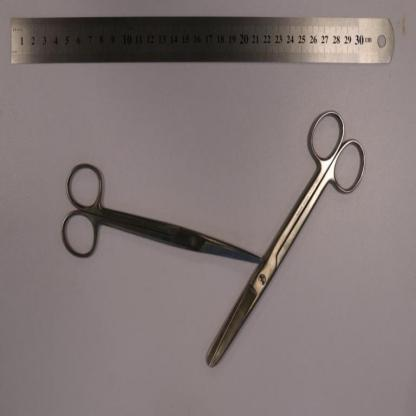Curved Mayo Scissors: (61, 160, 261, 262)
Dressing Scissors: (207, 106, 366, 370)
